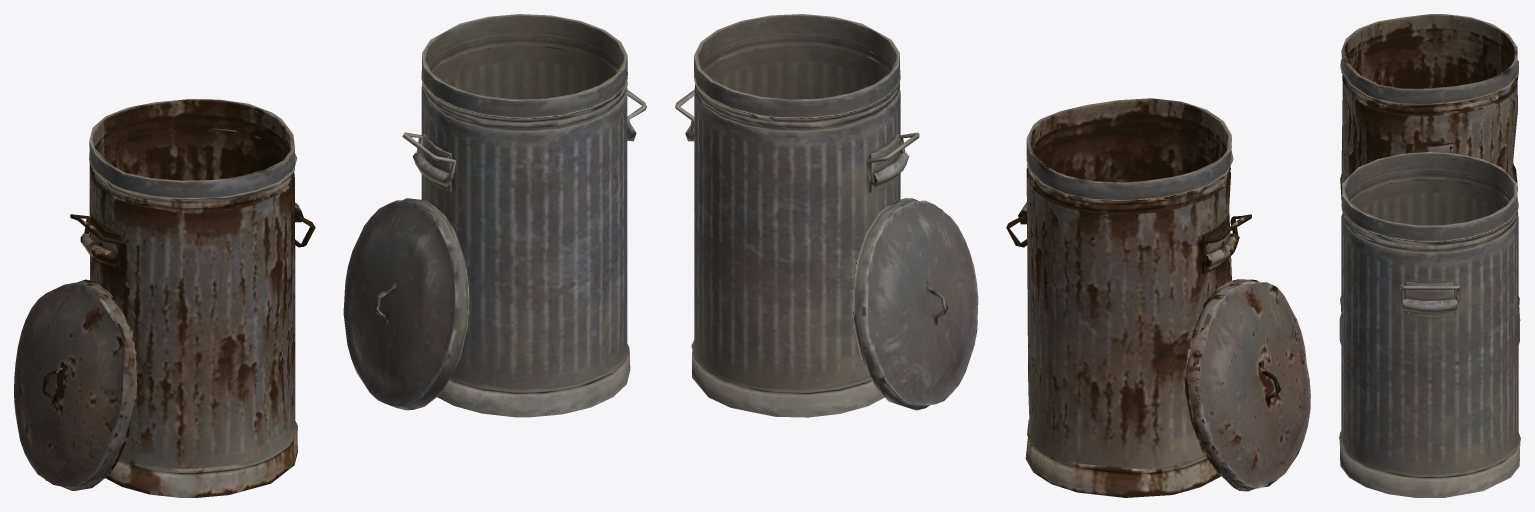
Rendered from trash-can.glb.
3 renders of one model, left to right at view 1: azimuth 30°, elevation 25°; view 2: azimuth 150°, elevation 25°; view 3: azimuth 270°, elevation 25°, orthographic. The views are drawn at different scales.
Parts seen in each view (by area): view 1: metal_trash_can_handle_left, metal_trash_can_rust; view 2: metal_trash_can_handle_left, metal_trash_can_rust; view 3: metal_trash_can_handle_left, metal_trash_can_rust.
Boxes of the visible parts, left/top/right/bottom form: metal_trash_can_handle_left: left=343, top=14, right=646, bottom=417; metal_trash_can_rust: left=14, top=99, right=315, bottom=497; metal_trash_can_handle_left: left=675, top=14, right=978, bottom=417; metal_trash_can_rust: left=1006, top=98, right=1310, bottom=497; metal_trash_can_handle_left: left=1339, top=152, right=1520, bottom=497; metal_trash_can_rust: left=1340, top=14, right=1520, bottom=320.
Size of the model in its own units: 1.78 by 0.9062 by 0.5524.
Materials: 2 (2 with a texture image).
